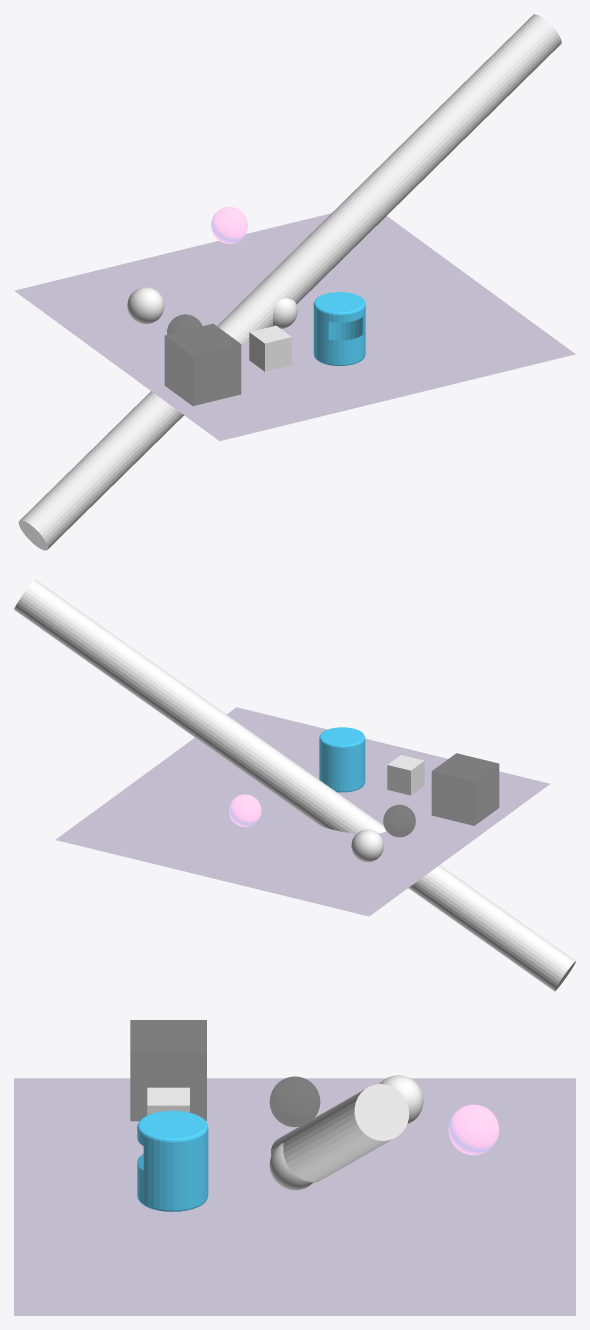
The model's file is Материалы_1.glb.
The picture shows the model from 3 angles, top to bottom: view 1: azimuth 30°, elevation 25°; view 2: azimuth 150°, elevation 25°; view 3: azimuth 270°, elevation 25°; orthographic projection. The views are drawn at different scales.
Visible parts, largest first — view 1: Plane, Cylinder, Cube, Cylinder.001, Cube.001, Sphere.003, Sphere; view 2: Plane, Cylinder, Cube, Cylinder.001, Cube.001, Sphere.003, Sphere, Sphere.002; view 3: Plane, Cylinder, Cylinder.001, Cube, Sphere, Sphere.002, Cube.001, Sphere.003, Sphere.001.
Part boxes in pixels (<box>): Plane: <box>14,213,575,440</box>; Cylinder: <box>18,14,561,550</box>; Cube: <box>164,323,241,405</box>; Cylinder.001: <box>313,292,365,365</box>; Cube.001: <box>249,325,291,371</box>; Sphere.003: <box>127,287,164,324</box>; Sphere: <box>211,207,247,243</box>; Plane: <box>55,707,550,916</box>; Cylinder: <box>14,579,575,991</box>; Cube: <box>431,753,499,825</box>; Cylinder.001: <box>319,727,365,792</box>; Cube.001: <box>387,755,424,795</box>; Sphere.003: <box>351,829,383,862</box>; Sphere: <box>229,794,261,826</box>; Sphere.002: <box>383,804,415,837</box>; Plane: <box>14,1078,575,1315</box>; Cylinder: <box>271,1084,409,1183</box>; Cylinder.001: <box>137,1110,208,1211</box>; Cube: <box>130,1020,206,1121</box>; Sphere: <box>448,1104,499,1155</box>; Sphere.002: <box>269,1076,320,1127</box>; Cube.001: <box>147,1087,189,1115</box>; Sphere.003: <box>379,1075,423,1124</box>; Sphere.001: <box>269,1143,312,1190</box>.
Size of the model in its own units: 23.97 by 14.38 by 14.69.
